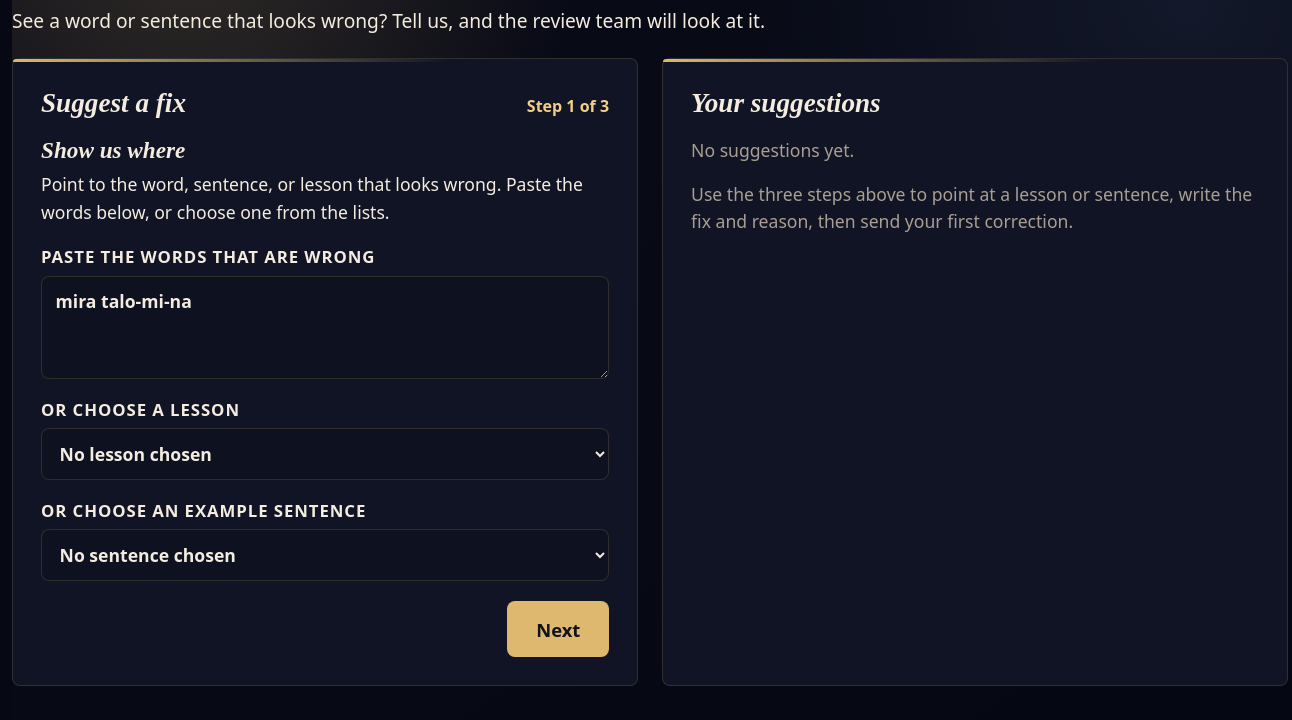
Test: ElderPage correction submit busy guard › disables send and marks the button busy while a correction submit is in flight
Click the button "Next" at (558, 630), box [507,602,609,658]
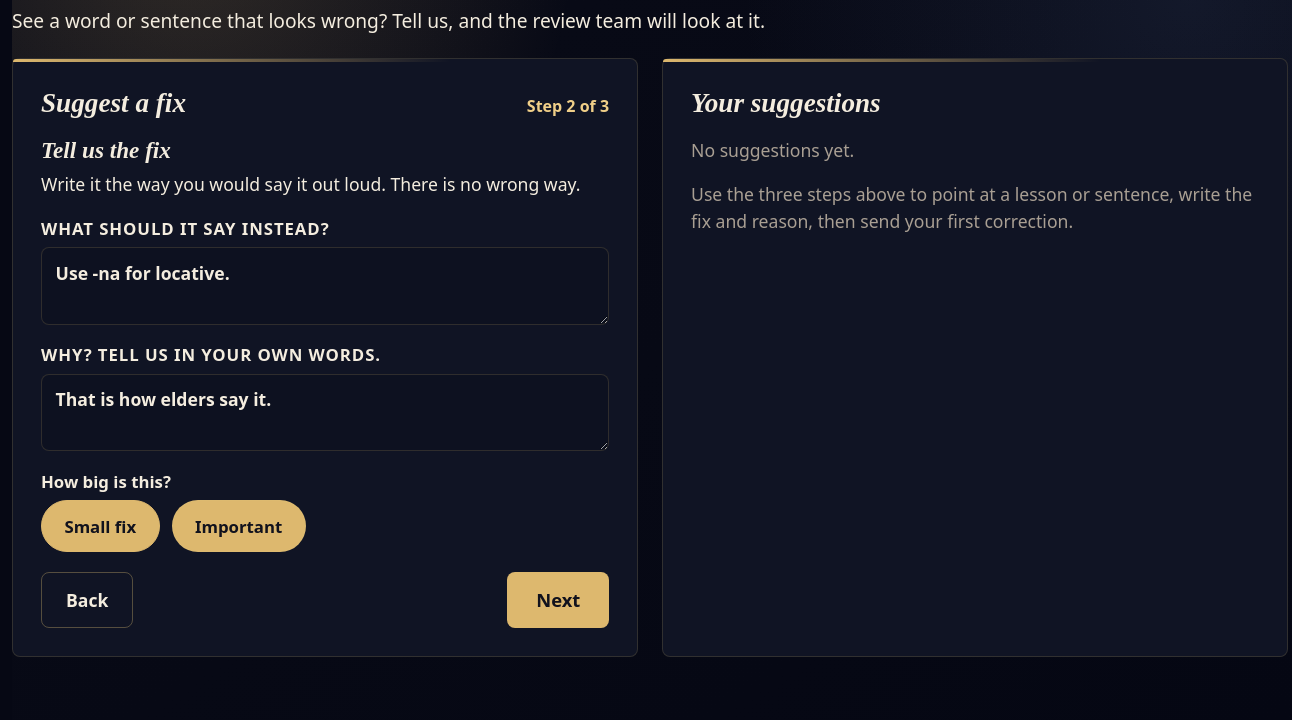
Click the button "Next" at (558, 600), box [507,572,609,628]
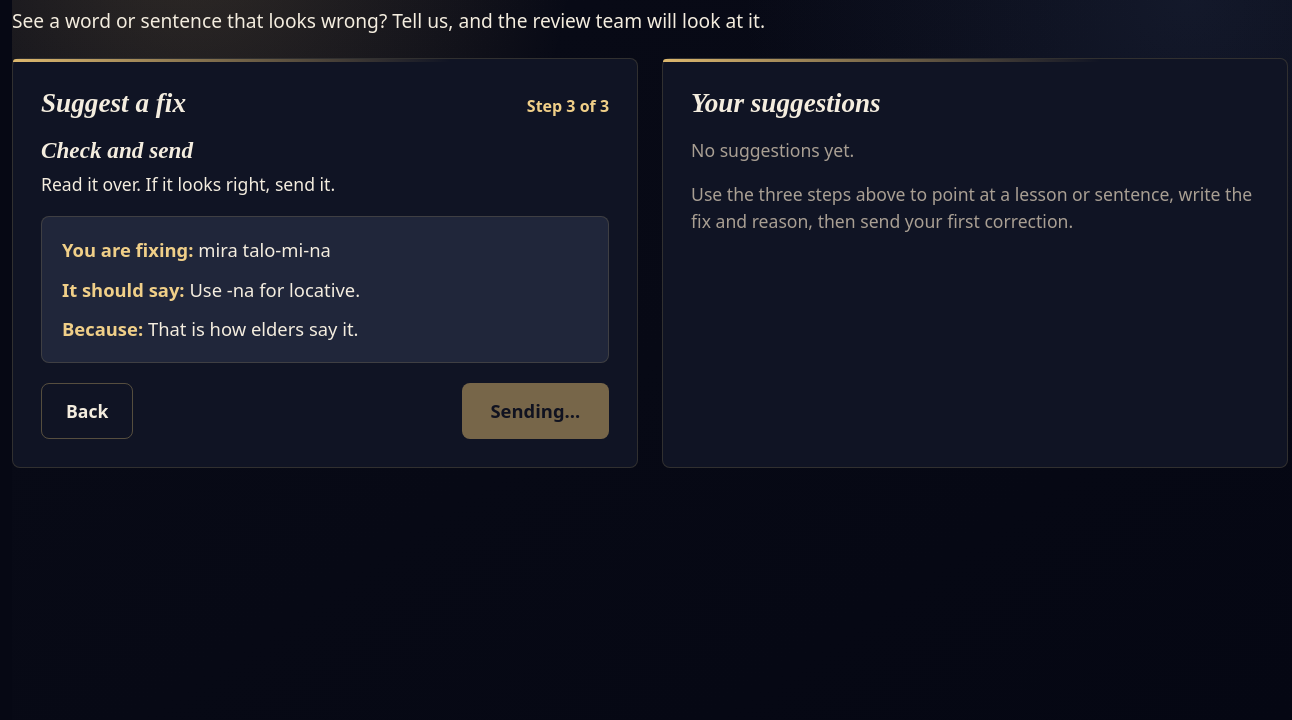
Check: the button "Sending…" is disabled, box [462,383,609,439]
